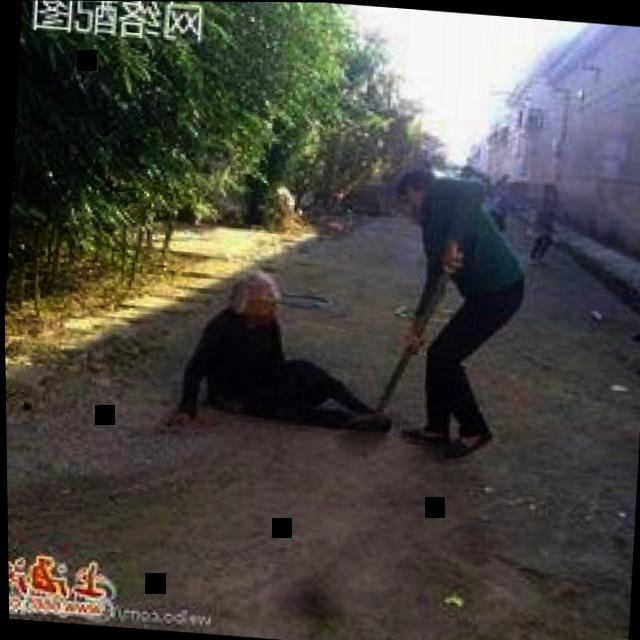Fall-Detected: (157, 247, 419, 443)
